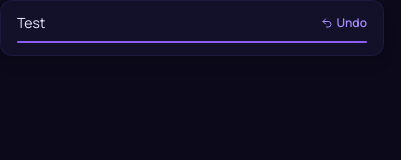
showUndoToast › shows "Undone." text after Undo is clicked
The image size is (401, 160).
Click the button with test id "undo-toast-btn" at [344, 23], box [320,15,367,31]
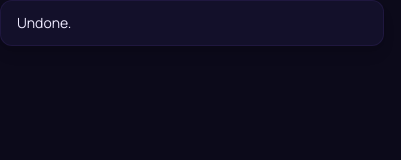
Expected: the element with test id "undo-toast" reads "Undone.", [17,13,71,32]
